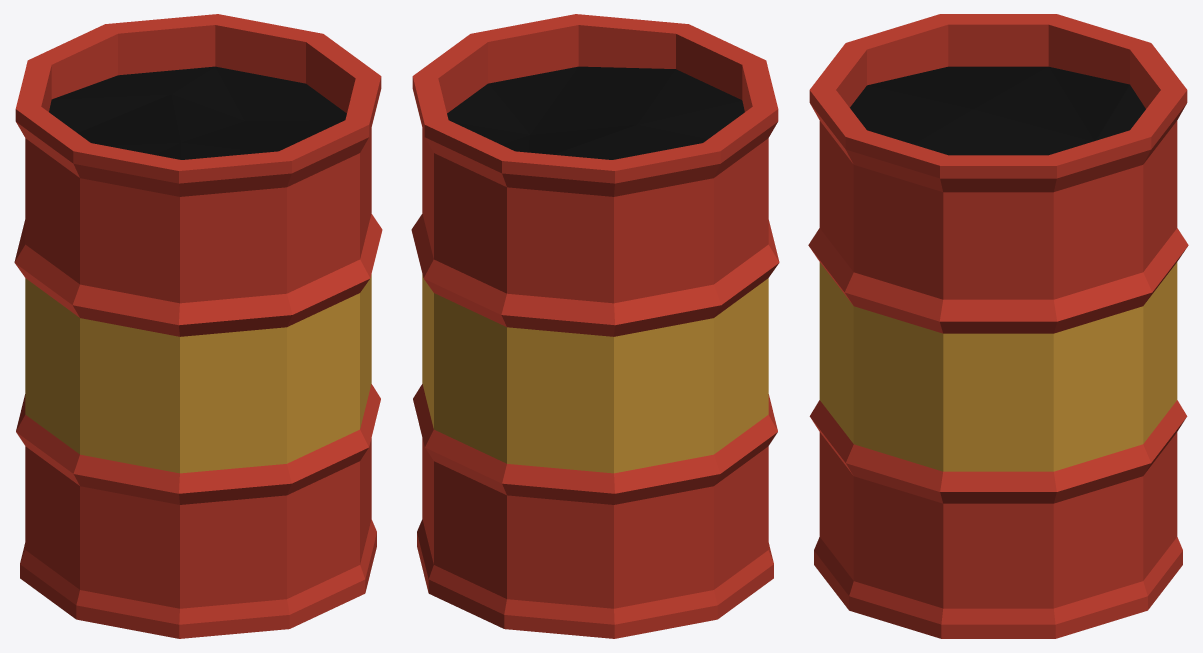
Rendered from oil_element.fbx.
The picture shows the model from 3 angles, left to right: view 1: azimuth 30°, elevation 25°; view 2: azimuth 150°, elevation 25°; view 3: azimuth 270°, elevation 25°; orthographic projection.
Visible parts, largest first — view 1: oiI_element; view 2: oiI_element; view 3: oiI_element.
Part boxes in pixels (box(x1,y1,x2,y2)): oiI_element: box(14, 14, 382, 638); oiI_element: box(411, 14, 779, 638); oiI_element: box(808, 14, 1188, 638).
Bounding box in the file's own units: 202 × 293 × 213.
